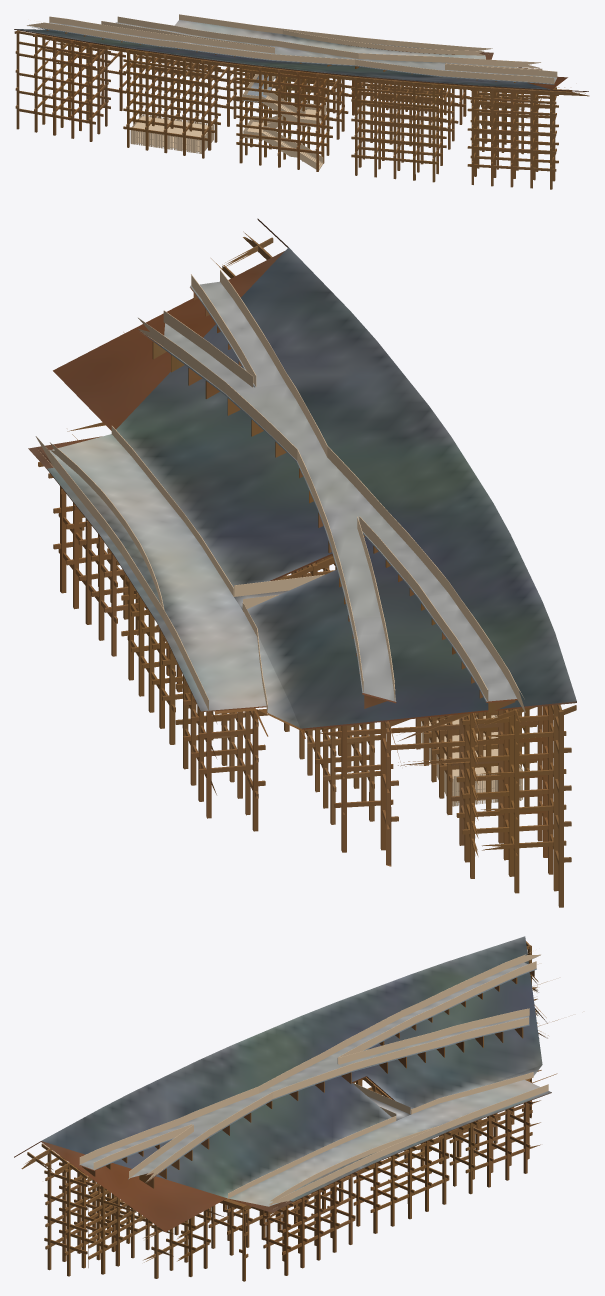
3 views of the same model, one above another, from view 1: azimuth 30°, elevation 25°; view 2: azimuth 150°, elevation 25°; view 3: azimuth 270°, elevation 25° (orthographic). The views are drawn at different scales.
Parts seen in each view (by area): view 1: GrandRoofRing_大屋根リング; view 2: GrandRoofRing_大屋根リング; view 3: GrandRoofRing_大屋根リング.
Part boxes in pixels (x1,y1,x2,y2): GrandRoofRing_大屋根リング: [14, 14, 589, 189]; GrandRoofRing_大屋根リング: [28, 218, 576, 907]; GrandRoofRing_大屋根リング: [14, 936, 558, 1281].
Bounding box in the file's own units: 85.79 × 20.64 × 85.29.
4 materials, 3 textured.
